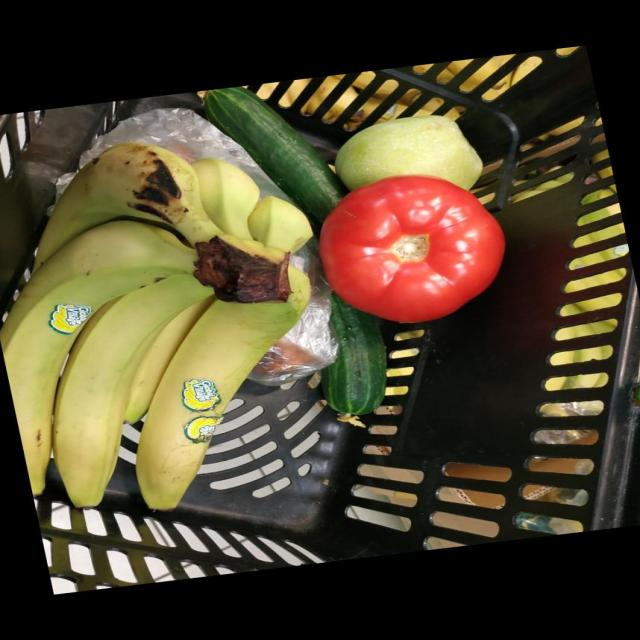Apple: (334, 115, 483, 191)
Banana: (0, 220, 196, 495), (135, 268, 308, 509), (52, 275, 207, 507), (35, 142, 222, 267), (124, 296, 213, 424), (189, 157, 259, 239), (246, 196, 312, 253)
Cucumber: (199, 87, 343, 224), (320, 295, 387, 416)
Tomatoes: (318, 175, 504, 323)
